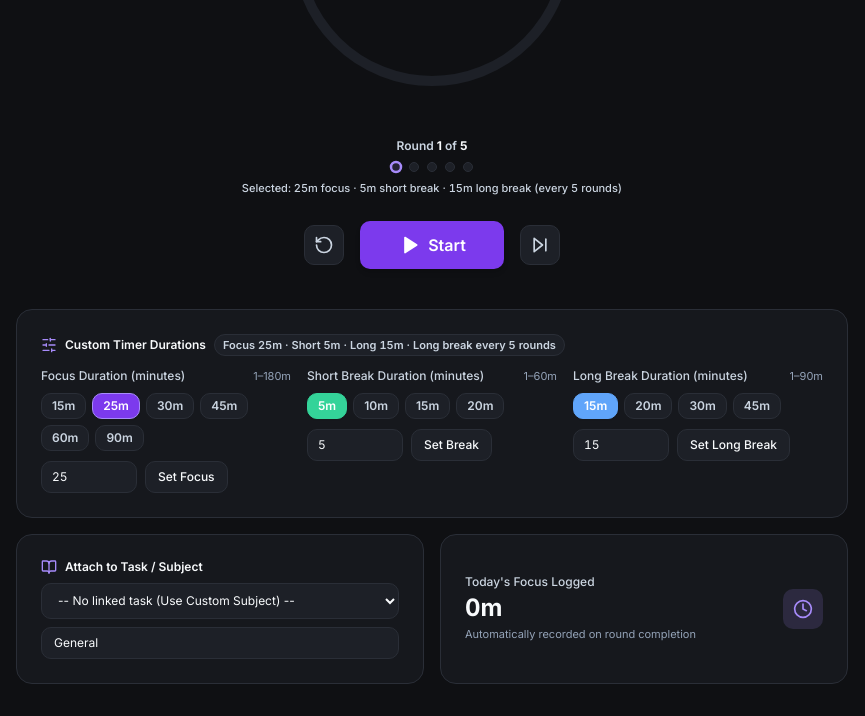
Test: Customizable Focus Timer UI & Settings Synchronization › handles settings save and reset errors gracefully without crashing
(page scrolled)
What coordinates should you click on to do the following:
click the button "45m" below "Focus Duration (minutes)"
I would click on:
 (224, 406)
Its box is [200,392,248,418].
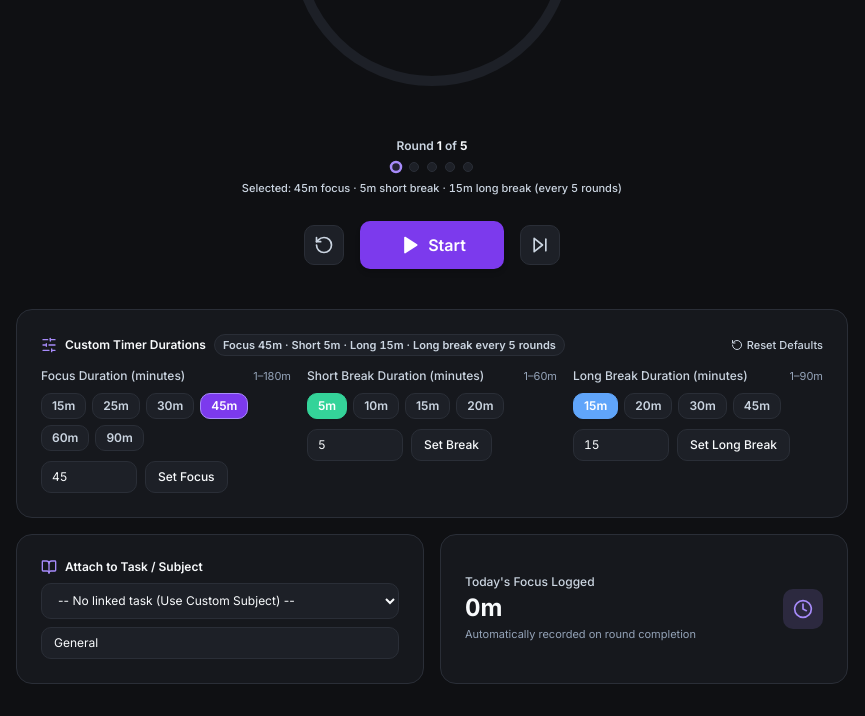
What coordinates should you click on to do the following:
click the button with aria-label "Reset durations to default"
I would click on:
 (777, 345)
Its box is [731,336,823,353].
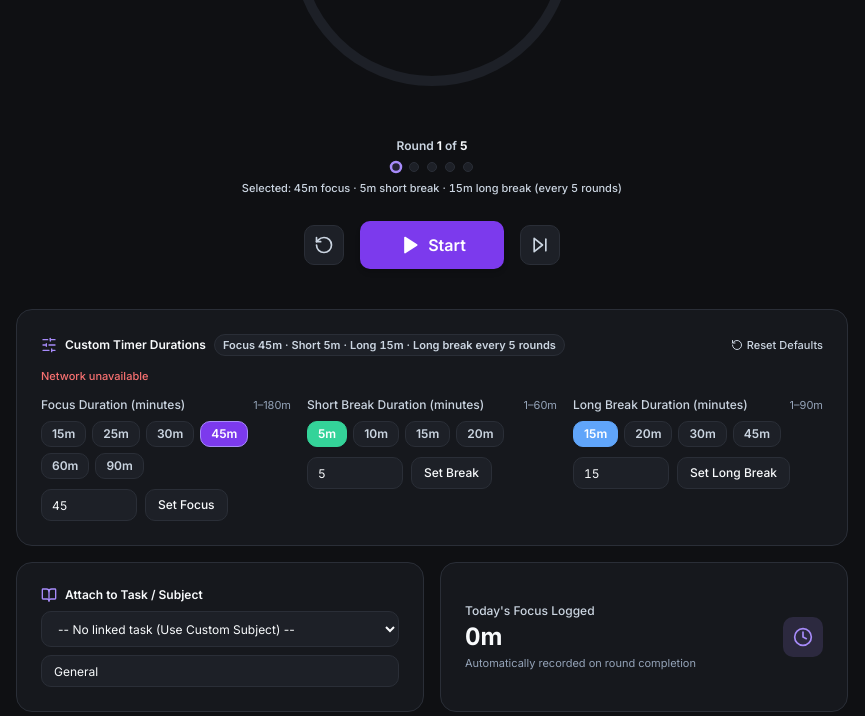
Result: the message reads "Network unavailable" at [41,369,148,383]
